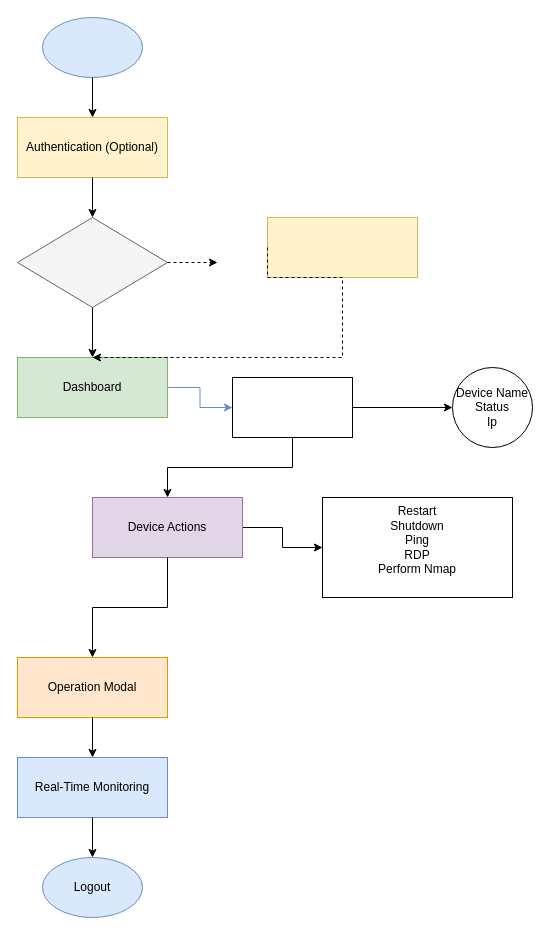
Some shapes in this 550 by 935 pixel diagram are drawn without their labels. The shapes that lost their labels are listed below. From the top down, each one's box as (x1, y1, x2, y2) in pixels, then its label:
(42, 16, 142, 78): Start
(16, 216, 168, 308): Is the user logged in?
(266, 216, 418, 278): Login Page
(232, 376, 352, 438): List of devices
